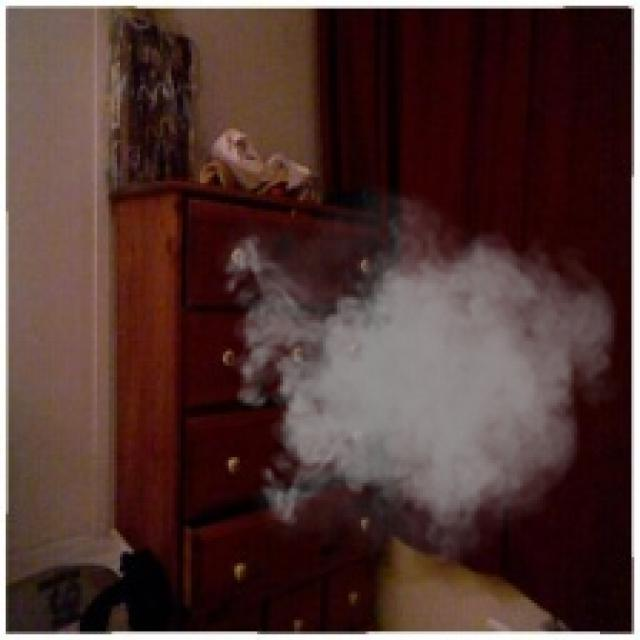smoke: (211, 174, 623, 586)
